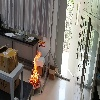fire: (30, 49, 41, 86), (76, 4, 80, 26)
